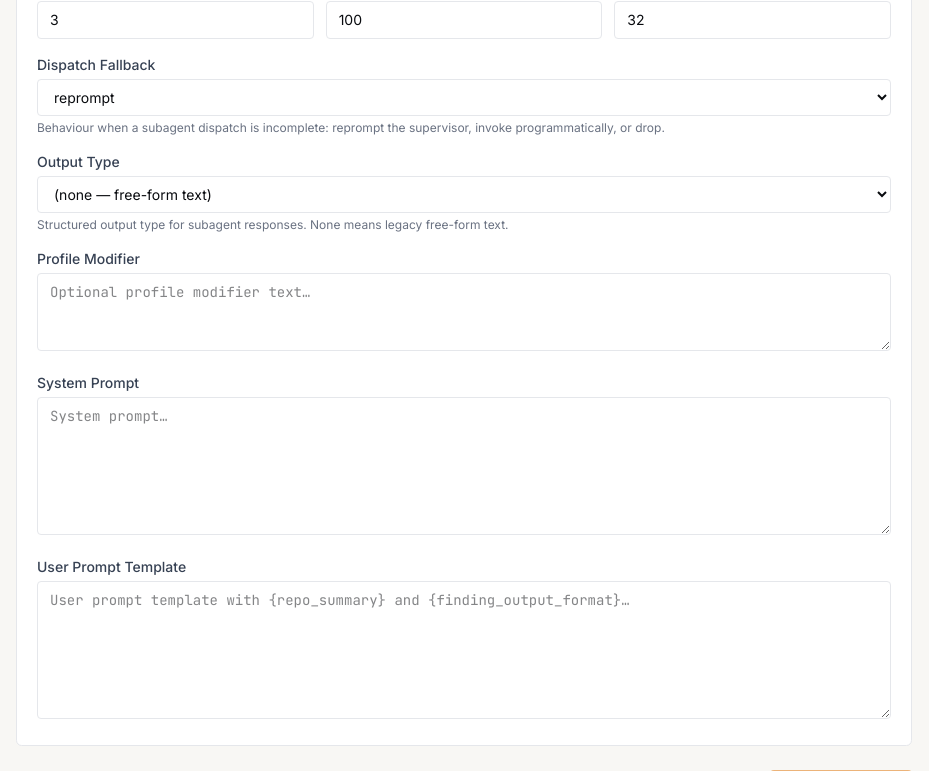
Test case: StrategyEditor — new strategy › placeholder linter flags missing required placeholders
The width and height of the screenshot is (929, 771).
(page scrolled)
Replace the text in the 3rd text box with "Hello world" at (464, 650), box [37,581,891,719]
(page scrolled)
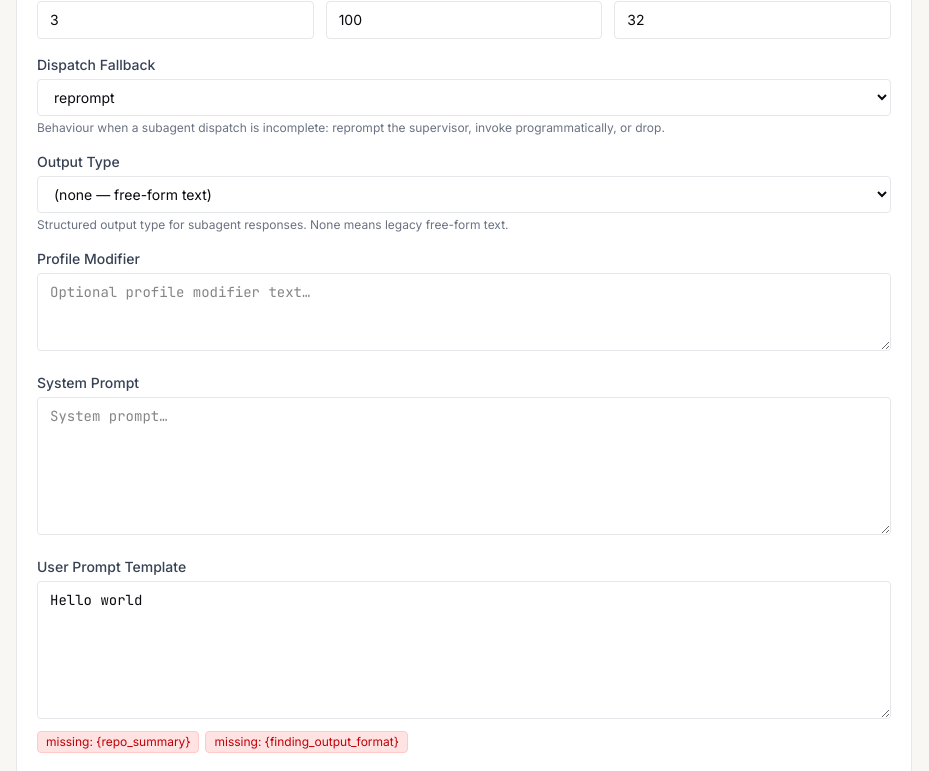
Expected: the text "missing: {repo_summary}" is shown, [37,731,200,753]
Expected: the text "missing: {finding_output_format}" is shown, [206,731,408,753]
